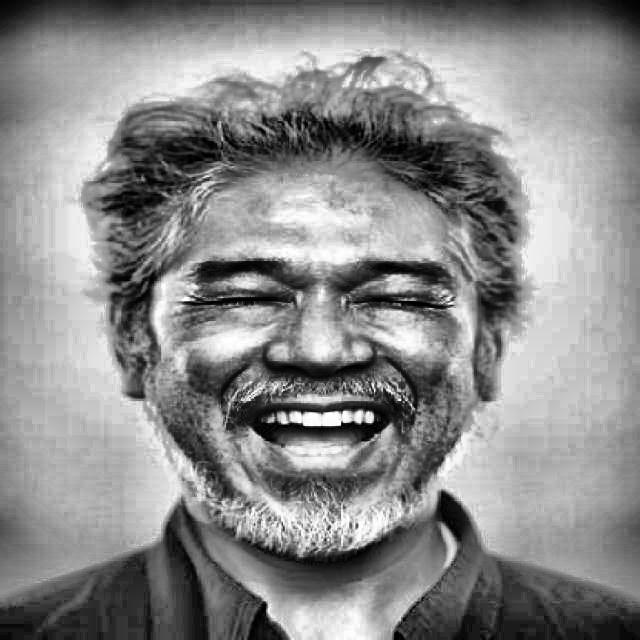happy: (190, 251, 456, 475)
